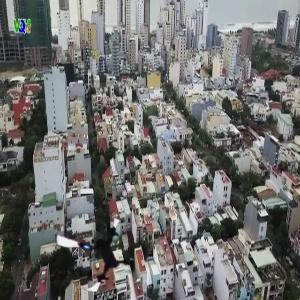drone: (53, 209, 141, 297)
